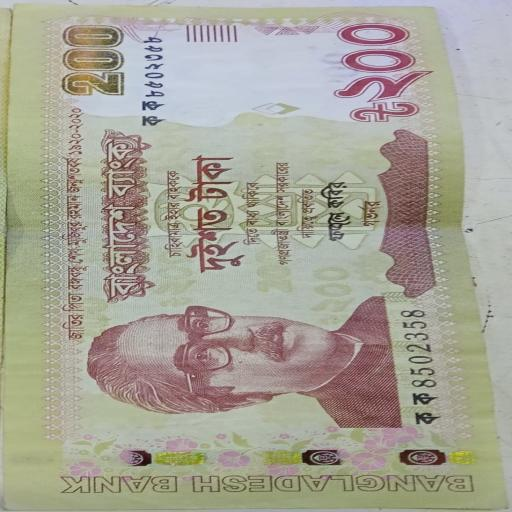200taka: (3, 3, 503, 511)
